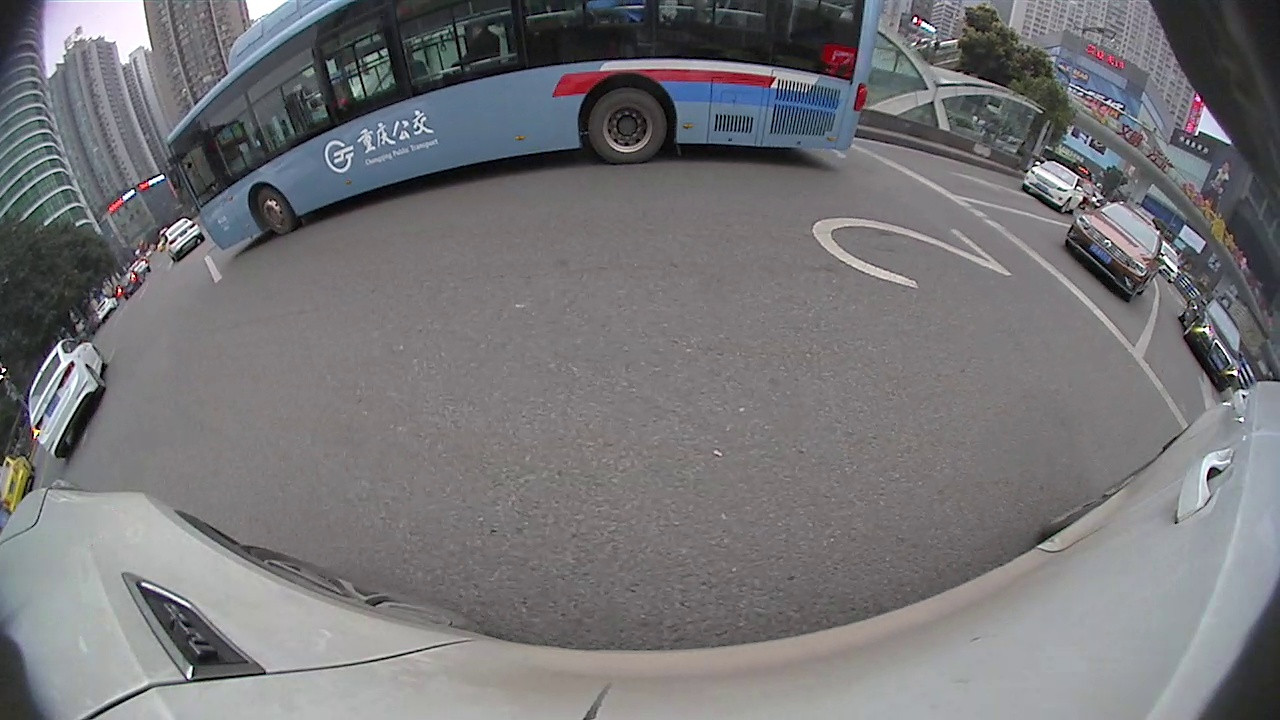bus: (160, 0, 888, 253)
car: (15, 335, 104, 463), (1064, 199, 1163, 304), (1177, 296, 1243, 395), (1021, 158, 1089, 215), (0, 453, 38, 518), (160, 216, 207, 264), (1157, 240, 1182, 283)
front: (252, 192, 296, 236), (1183, 318, 1201, 337), (1059, 198, 1073, 217)
rear: (584, 87, 672, 163), (86, 364, 112, 391)
